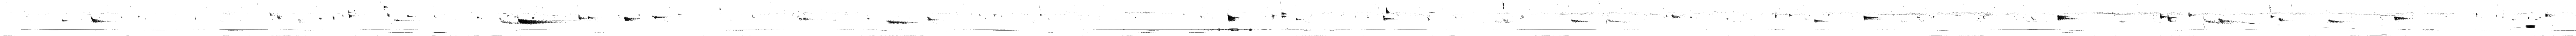meteor: (517, 16, 560, 25), (2201, 16, 2234, 25), (90, 15, 112, 23), (887, 20, 917, 25), (499, 16, 516, 25), (2057, 15, 2077, 21), (1863, 15, 1883, 20), (2167, 15, 2178, 23), (1571, 18, 1589, 23), (1227, 15, 1240, 21), (1382, 15, 1395, 21), (624, 16, 639, 21), (652, 15, 667, 20), (1814, 18, 1828, 23), (2394, 16, 2408, 21), (2328, 20, 2348, 23), (927, 16, 938, 21), (2188, 11, 2196, 18), (2160, 13, 2167, 20), (578, 15, 586, 20), (2279, 18, 2290, 21), (348, 13, 355, 18), (383, 5, 389, 10), (406, 15, 414, 18), (588, 16, 596, 20), (278, 13, 281, 20), (1281, 11, 1288, 15), (269, 11, 273, 16), (348, 10, 353, 13), (388, 13, 391, 18), (1281, 15, 1286, 18), (61, 20, 67, 21)
